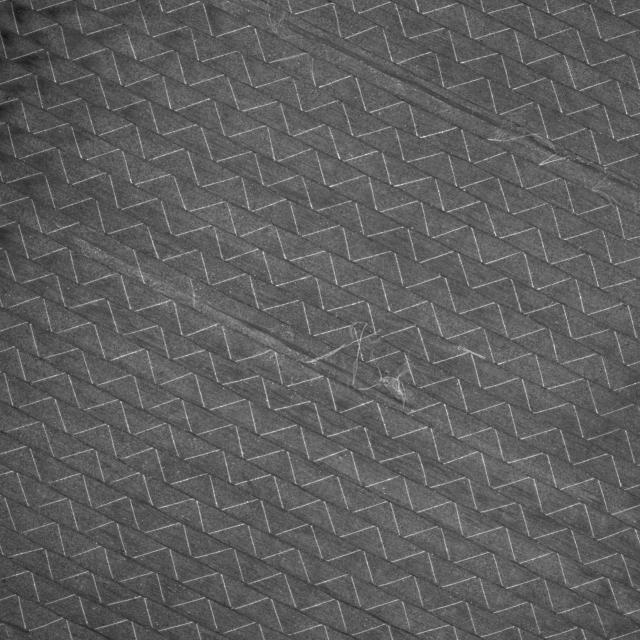carbon-fibre-defect: (298, 286, 456, 420)
